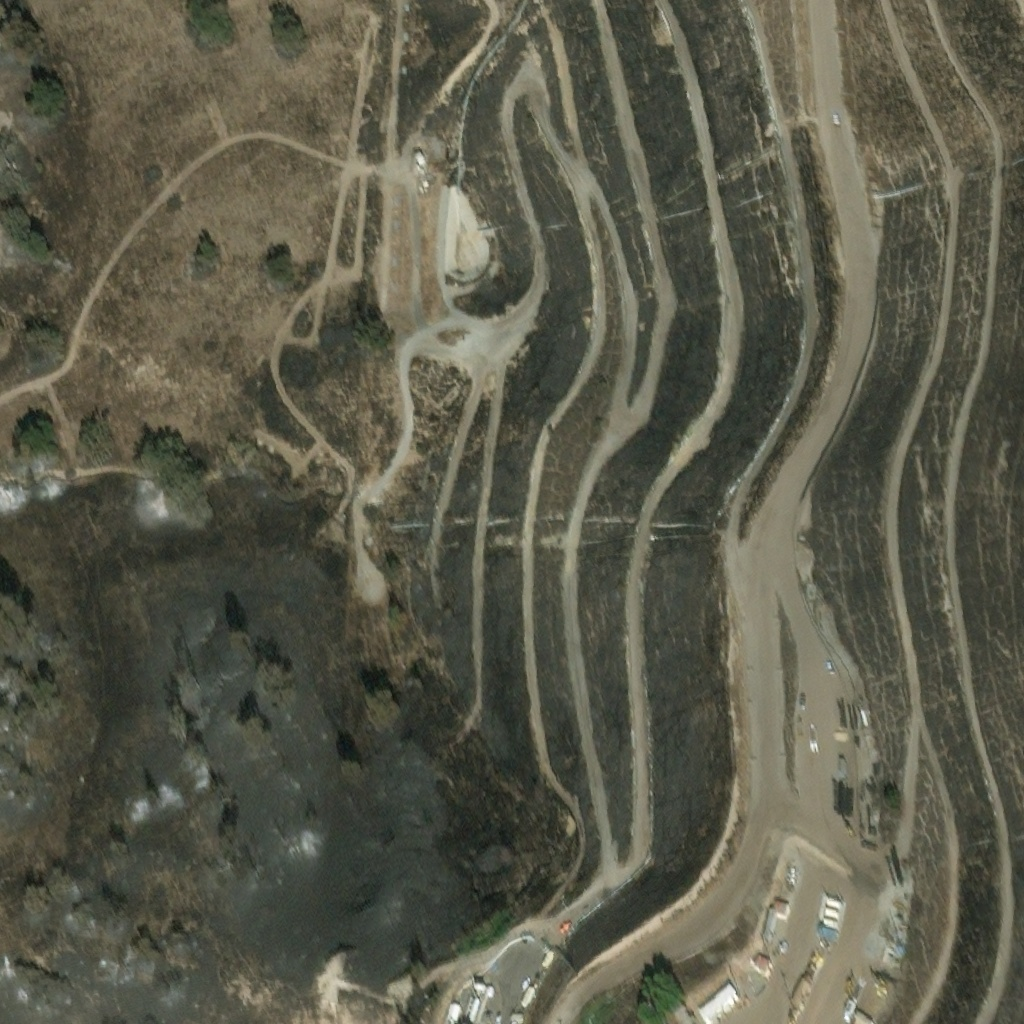0 no-damage: (783, 971, 812, 1011), (902, 1004, 926, 1023), (840, 993, 859, 1010), (444, 1002, 462, 1019), (467, 998, 480, 1020), (525, 1001, 539, 1021), (546, 970, 560, 986), (448, 263, 463, 275), (847, 966, 862, 976), (846, 976, 860, 986), (474, 986, 487, 996), (863, 834, 870, 850), (844, 985, 858, 993)
4 un-classified: (887, 805, 900, 826)
